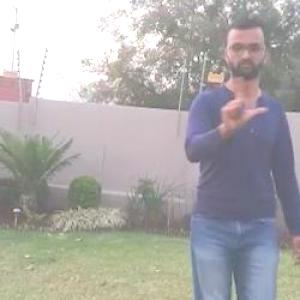land_hand: (216, 67, 270, 126)
